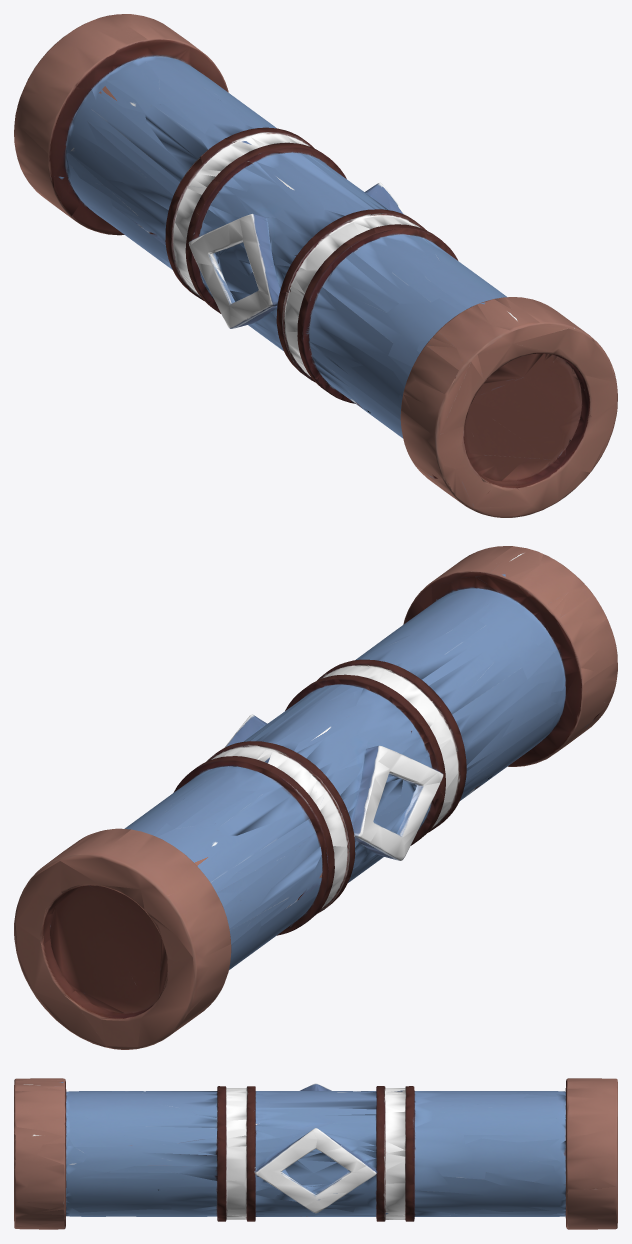
File: mayo-weapon.fbx
3 renders of one model, top to bottom at view 1: azimuth 30°, elevation 25°; view 2: azimuth 150°, elevation 25°; view 3: azimuth 270°, elevation 25°, orthographic. The views are drawn at different scales.
Visible parts, largest first — view 1: mayo_weapon; view 2: mayo_weapon; view 3: mayo_weapon.
Part boxes in pixels (left/top/right/bottom): mayo_weapon: left=14, top=14, right=617, bottom=517; mayo_weapon: left=14, top=546, right=617, bottom=1049; mayo_weapon: left=14, top=1078, right=617, bottom=1229.
Size of the model in its own units: 16.31 by 16.26 by 65.
Materials: 1 (1 with a texture image).
